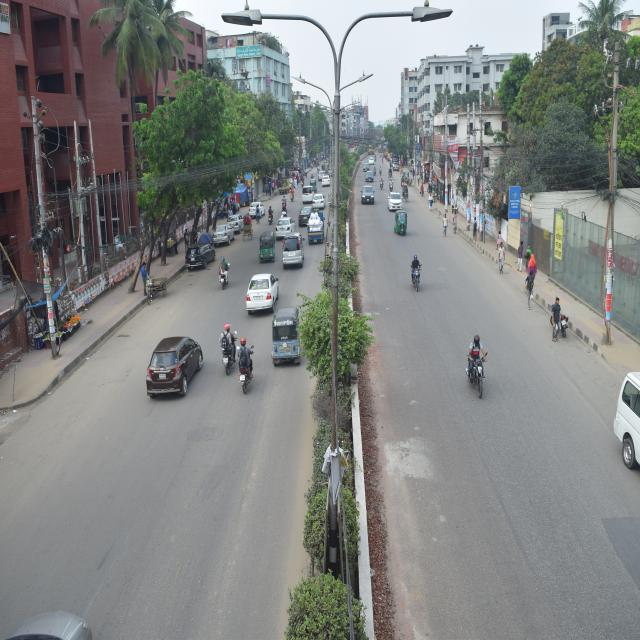car: (144, 331, 203, 410), (240, 267, 280, 316), (188, 240, 218, 272), (270, 210, 296, 244), (382, 184, 404, 217), (211, 222, 236, 251), (224, 207, 244, 237), (247, 192, 266, 220), (298, 201, 316, 226), (359, 184, 376, 207), (310, 190, 326, 210)
microbus: (613, 364, 640, 475), (284, 233, 308, 277)
motorbike: (460, 338, 495, 398), (216, 327, 239, 376), (236, 344, 258, 391), (549, 304, 574, 342), (411, 265, 428, 295), (220, 262, 234, 292), (266, 209, 275, 226), (379, 175, 388, 189), (281, 197, 287, 211)
pickup-van: (309, 209, 325, 248)
